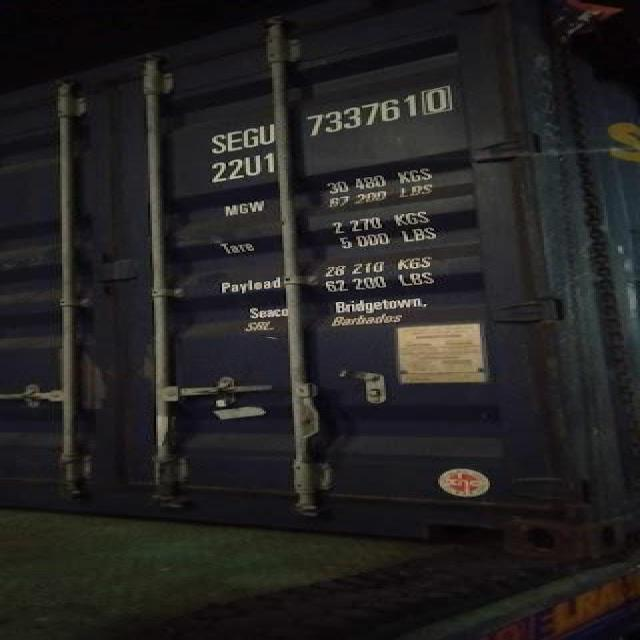ISO: (212, 154, 274, 180)
container_number: (198, 91, 458, 152)
